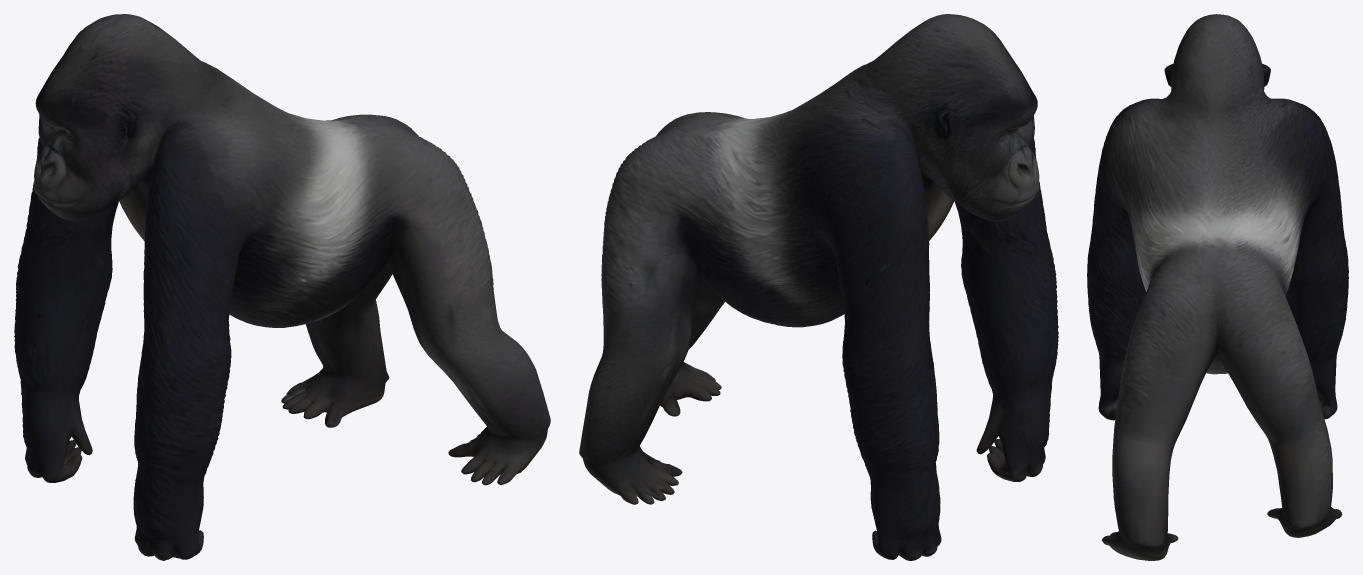
File: mountain-gorilla.glb
3 renders of one model, left to right at view 1: azimuth 30°, elevation 25°; view 2: azimuth 150°, elevation 25°; view 3: azimuth 270°, elevation 25°, orthographic. The views are drawn at different scales.
Visible parts, largest first — view 1: node_0; view 2: node_0; view 3: node_0.
Part boxes in pixels (<box>): node_0: <box>14,14,550,560</box>; node_0: <box>579,14,1058,560</box>; node_0: <box>1087,14,1348,560</box>.
Size of the model in its own units: 0.8555 by 0.8659 by 0.5125.
Materials: 1 (1 with a texture image).
